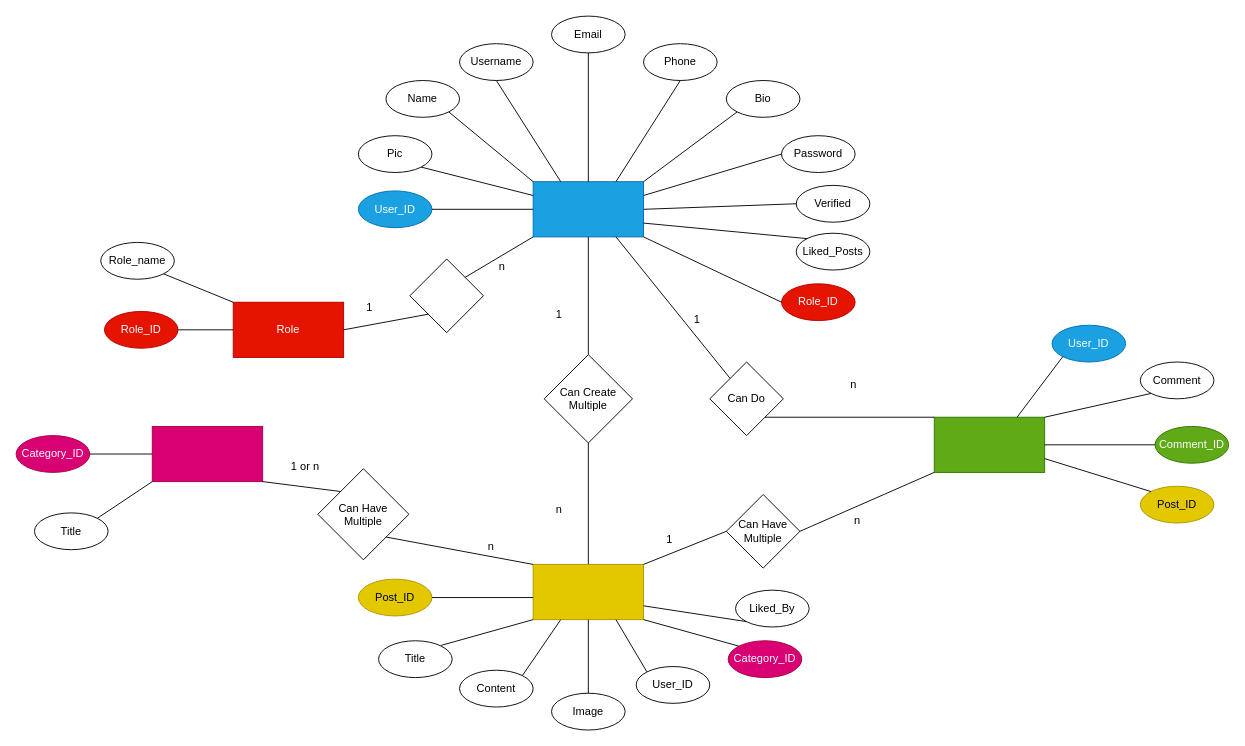
This 1245x746 diagram has some shape labels left out. The box of each missing label's shape, as (x1, y1, x2, y2) in pixels:
Can assigned to: (409, 258, 483, 333)
Category: (151, 426, 263, 482)
Comments: (933, 416, 1045, 472)
Post: (532, 564, 644, 620)
User: (532, 181, 644, 237)
